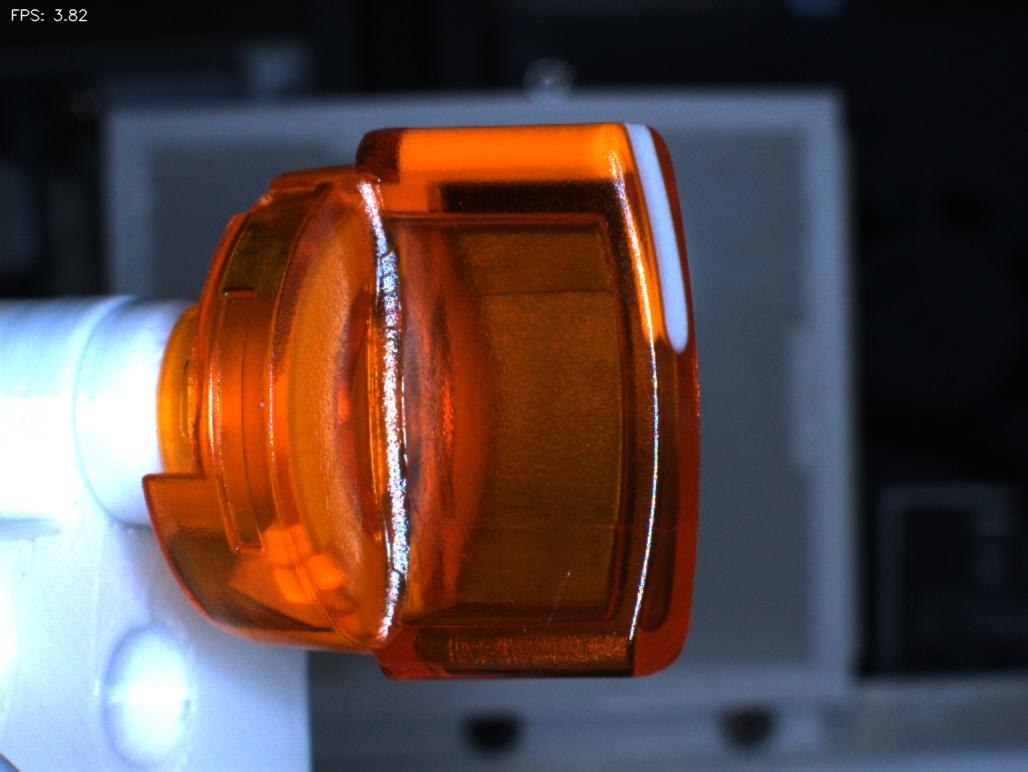Givrage: (506, 536, 605, 642)
